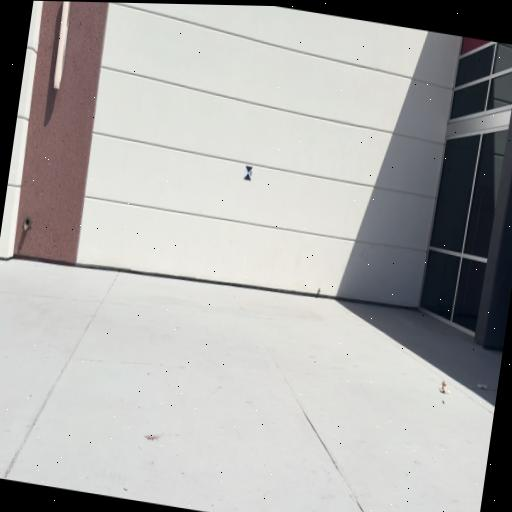target4: (243, 165, 254, 181)
